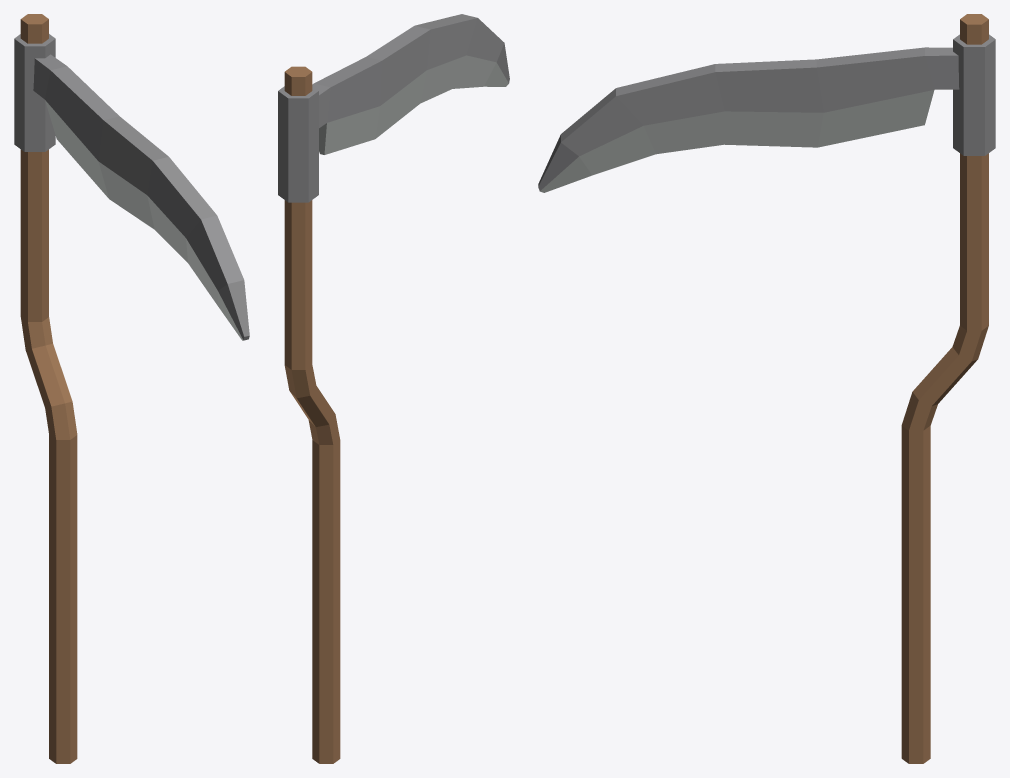
Rendered from FarmScythe.fbx.
3 views of the same model, side by side, from view 1: azimuth 30°, elevation 25°; view 2: azimuth 150°, elevation 25°; view 3: azimuth 270°, elevation 25° (orthographic). The views are drawn at different scales.
Parts seen in each view (by area): view 1: FarmScythe; view 2: FarmScythe; view 3: FarmScythe.
Part boxes in pixels (bbox=[...]): FarmScythe: bbox=[14, 14, 249, 763]; FarmScythe: bbox=[278, 14, 509, 763]; FarmScythe: bbox=[538, 14, 995, 763].
Size of the model in its own units: 0.0953 by 2.1 by 1.18.
